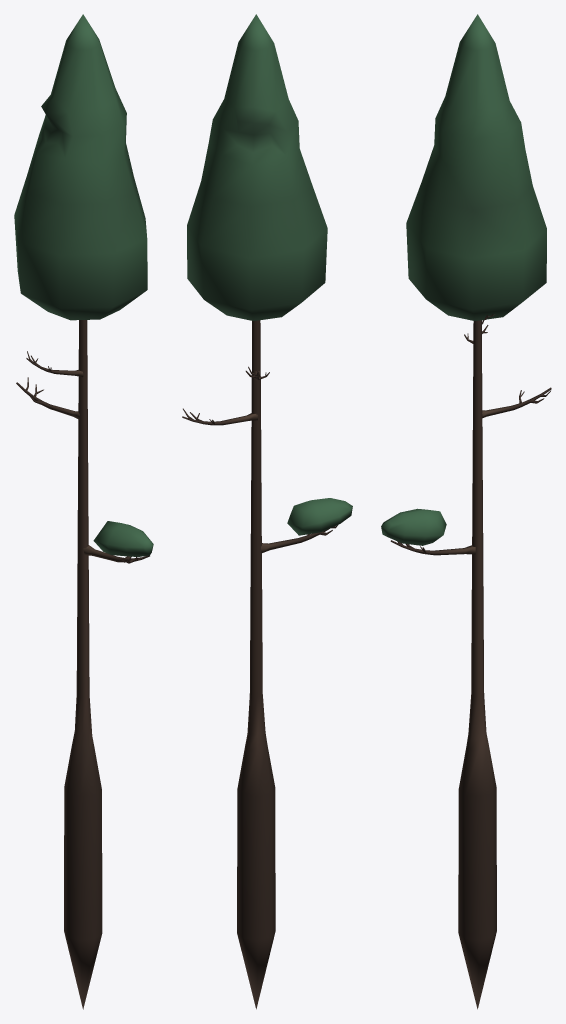
File: trees-conifers-cypress-sapling_v1.fbx
3 views of the same model, side by side, from view 1: azimuth 90°, elevation 25°; view 2: azimuth 150°, elevation 25°; view 3: azimuth 330°, elevation 25° (orthographic).
Parts seen in each view (by area): view 1: Cypress Sapling_v1; view 2: Cypress Sapling_v1; view 3: Cypress Sapling_v1.
Part boxes in pixels (<box>): Cypress Sapling_v1: <box>14,14,153,1009</box>; Cypress Sapling_v1: <box>182,14,352,1009</box>; Cypress Sapling_v1: <box>381,14,551,1009</box>.
Bounding box in the file's own units: 0.3815 × 3 × 0.3807.
